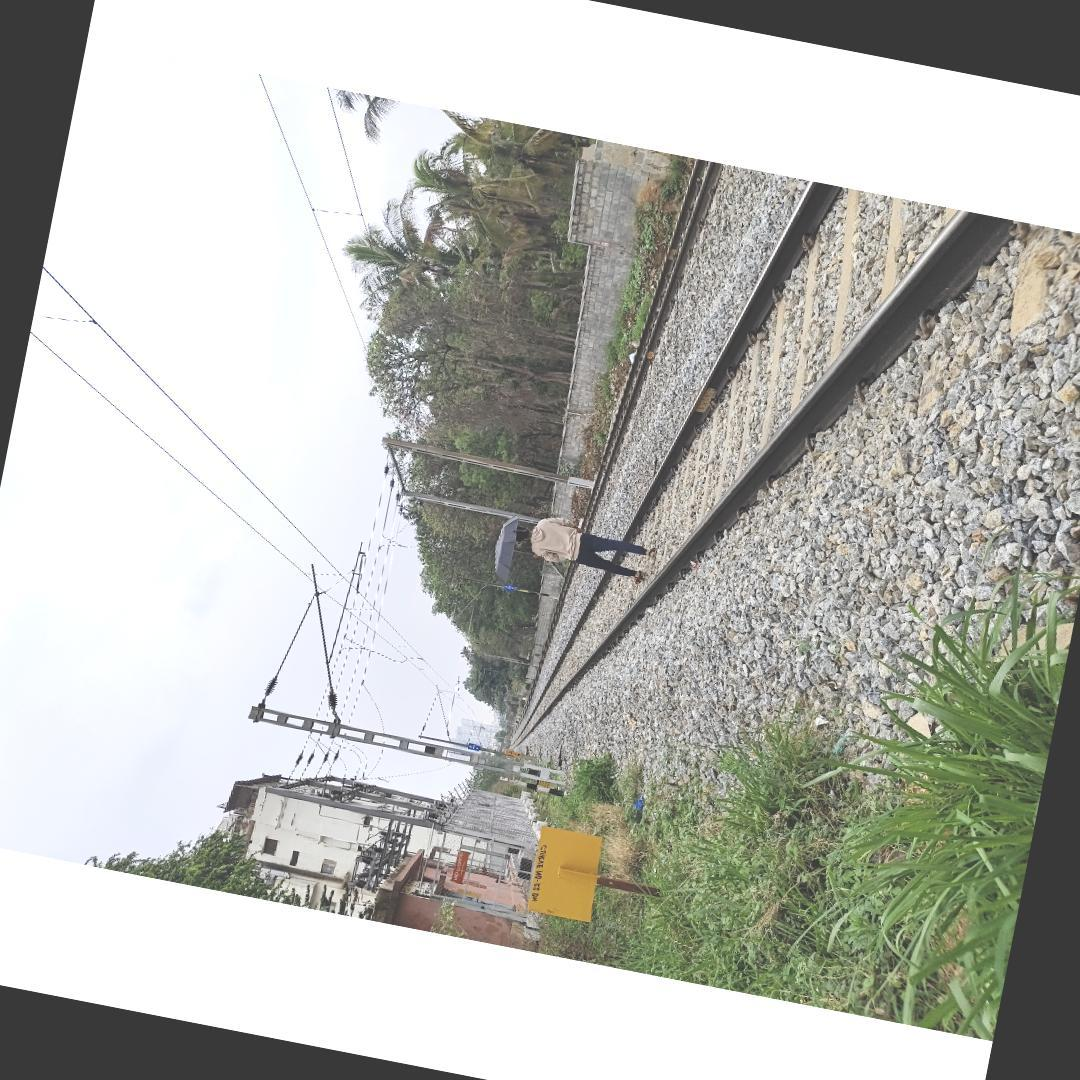standing: (508, 506, 660, 587)
track: (507, 177, 1080, 762)
